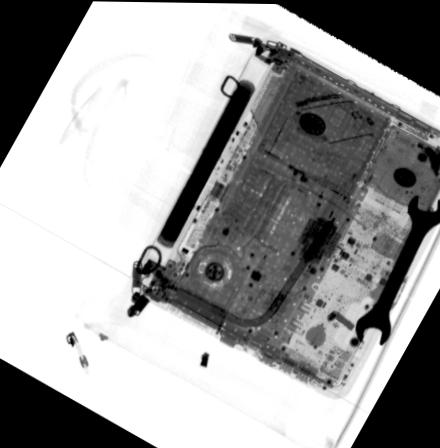Wrench: (352, 190, 440, 348)
